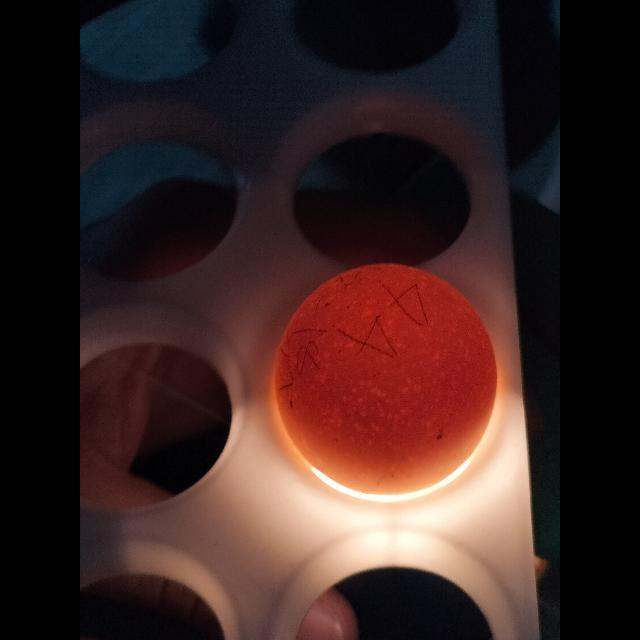Infertile: (270, 256, 504, 486)
